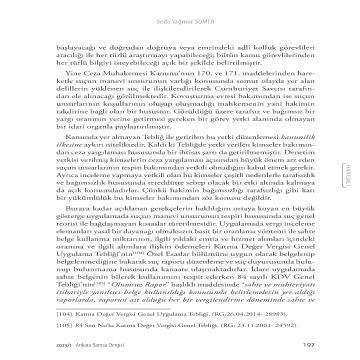footer: (55, 310, 309, 350)
header: (155, 17, 217, 27)
